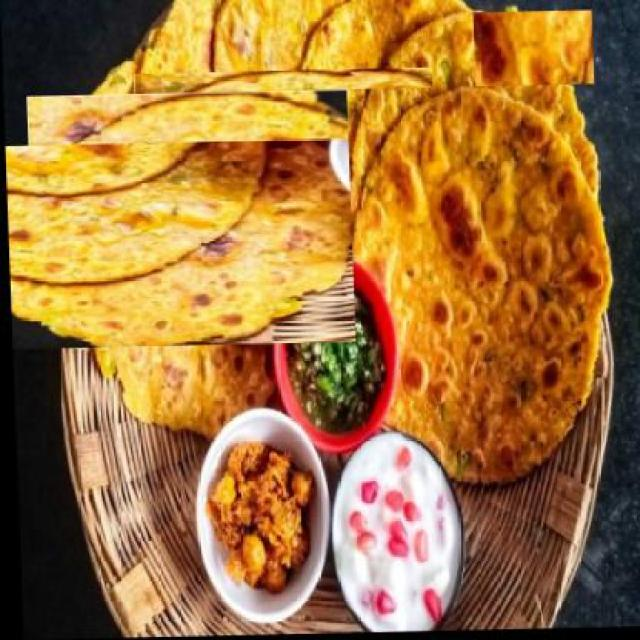chapati: (346, 86, 616, 488), (11, 94, 317, 397), (73, 42, 336, 302), (342, 10, 600, 262), (275, 0, 482, 291), (172, 32, 400, 258)
